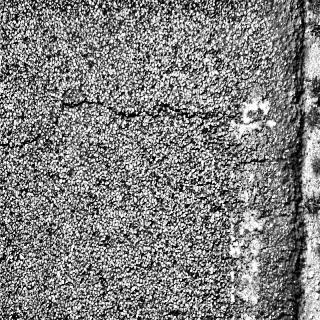crack: (7, 74, 283, 210)
